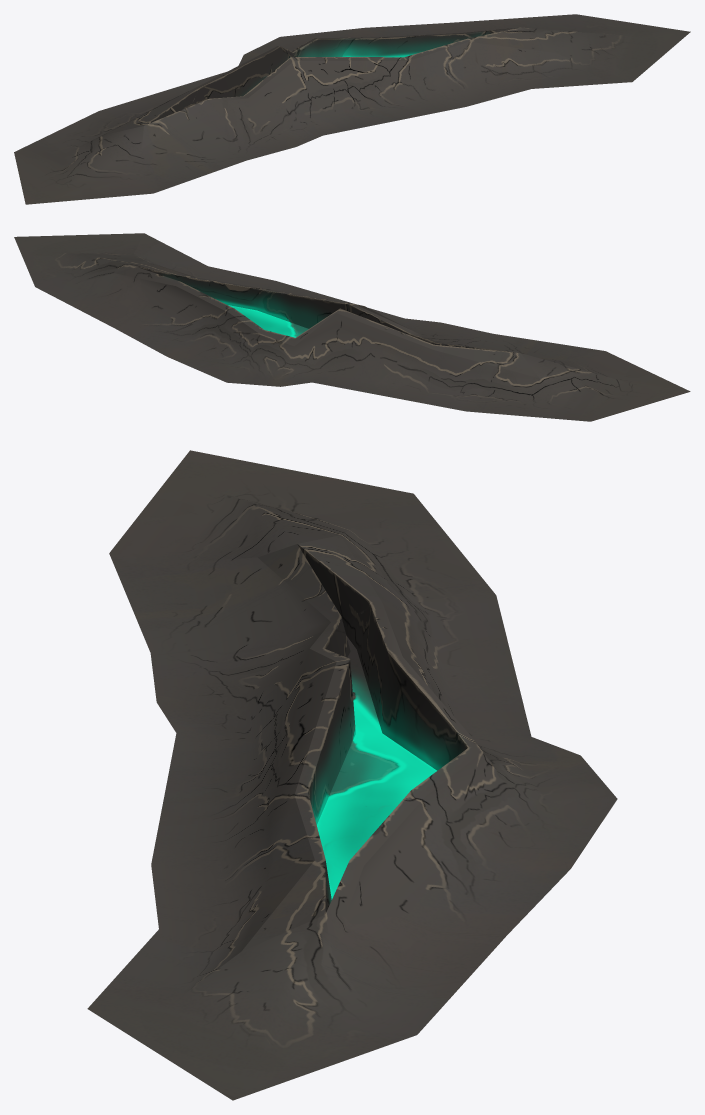
The model's file is mod_env_nature_arcane_vein01.fbx.
3 views of the same model, one above another, from view 1: azimuth 30°, elevation 25°; view 2: azimuth 150°, elevation 25°; view 3: azimuth 270°, elevation 25° (orthographic). The views are drawn at different scales.
Visible parts, largest first — view 1: mod_env_arcane_vein01; view 2: mod_env_arcane_vein01; view 3: mod_env_arcane_vein01.
Boxes of the visible parts, x1,y1,x2,y2 form: mod_env_arcane_vein01: [14, 14, 690, 204]; mod_env_arcane_vein01: [14, 233, 690, 421]; mod_env_arcane_vein01: [87, 450, 617, 1100].
Bounding box in the file's own units: 1643 × 108 × 566.
